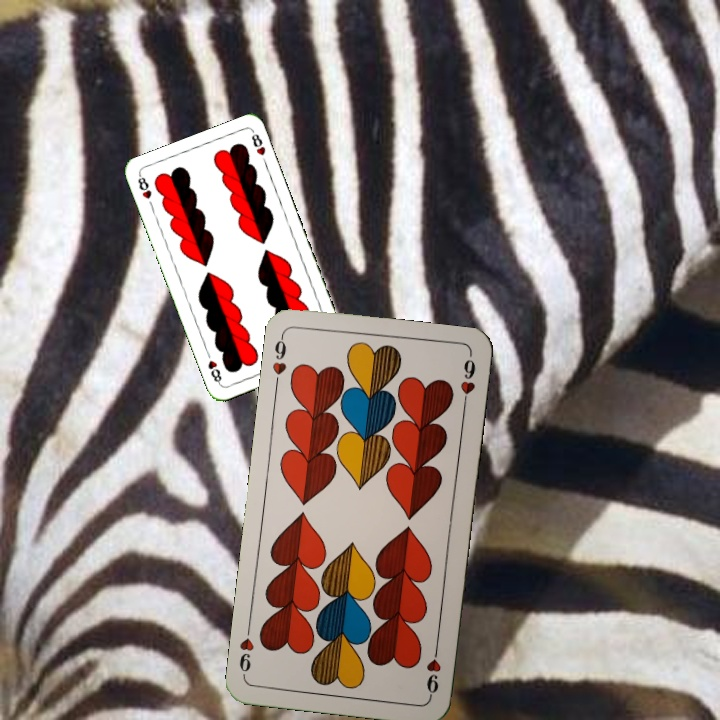H8: (134, 171, 154, 202)
H9: (422, 640, 444, 699), (268, 330, 289, 390)
